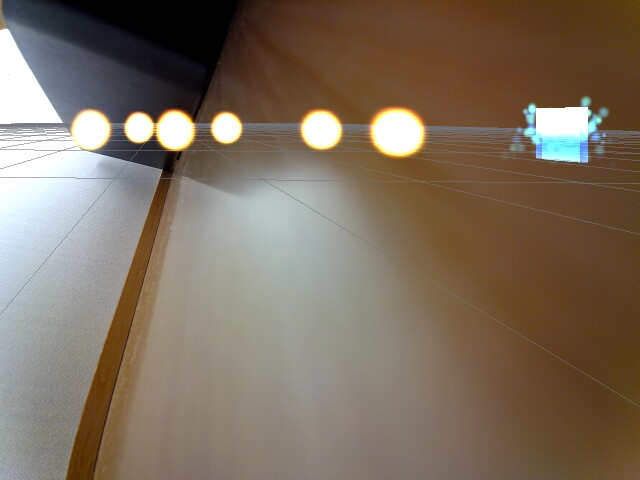firebig: (362, 88, 431, 162)
